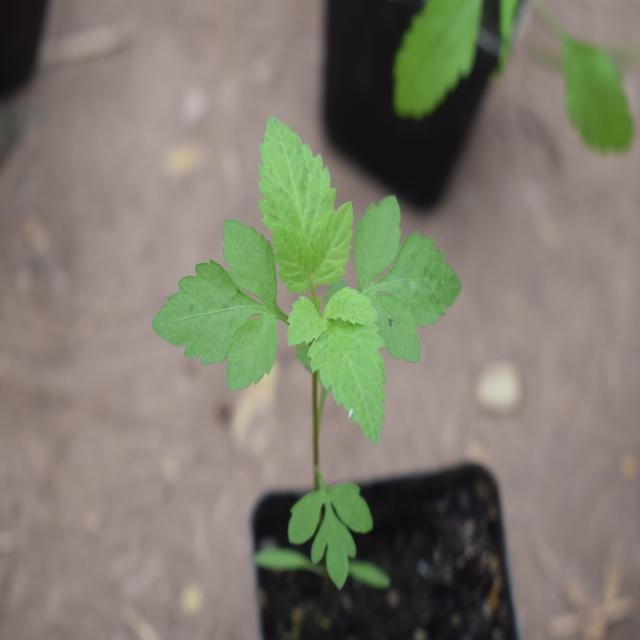Bidens pilosa: (162, 124, 445, 583)
